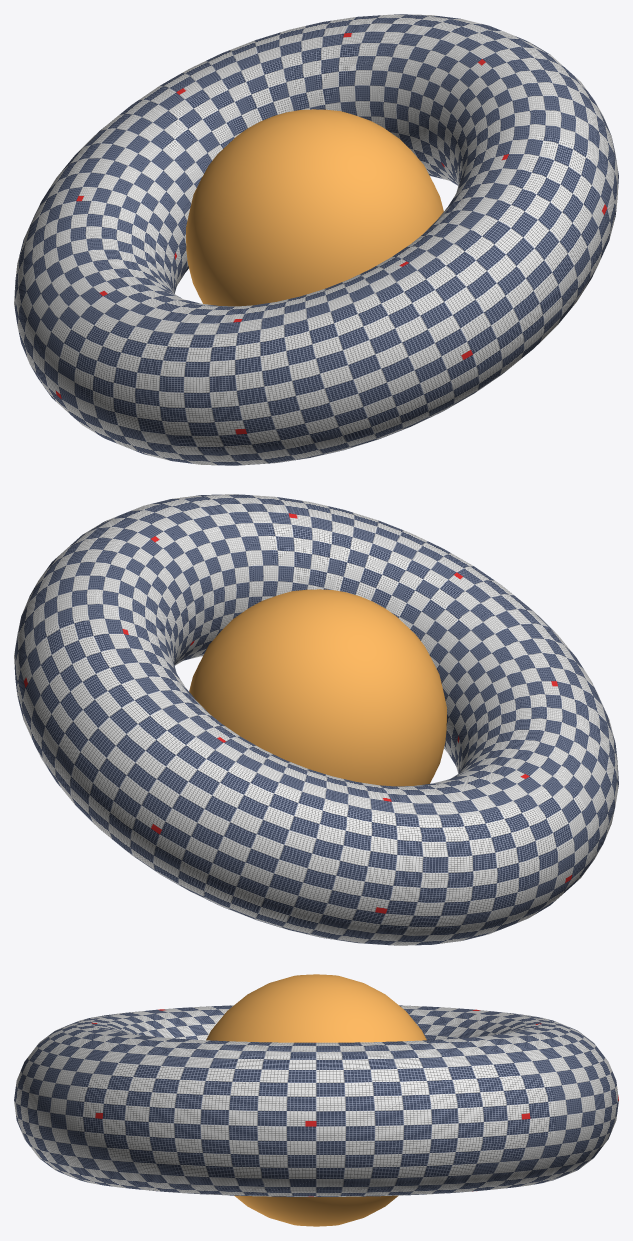
File: demo.gltf
The picture shows the model from 3 angles, top to bottom: view 1: azimuth 30°, elevation 25°; view 2: azimuth 150°, elevation 25°; view 3: azimuth 270°, elevation 25°; orthographic projection. The views are drawn at different scales.
Parts seen in each view (by area): view 1: anneau, bille; view 2: anneau, bille; view 3: anneau, bille.
Boxes of the visible parts, box(x1,y1,x2,y2) form: anneau: box(14, 14, 618, 465); bille: box(186, 109, 443, 306); anneau: box(14, 494, 618, 945); bille: box(189, 589, 446, 786); anneau: box(14, 1005, 618, 1196); bille: box(206, 974, 426, 1226).
Bounding box in the file's own units: 4.1 × 2.19 × 4.3.
Materials: 2 (1 with a texture image).
